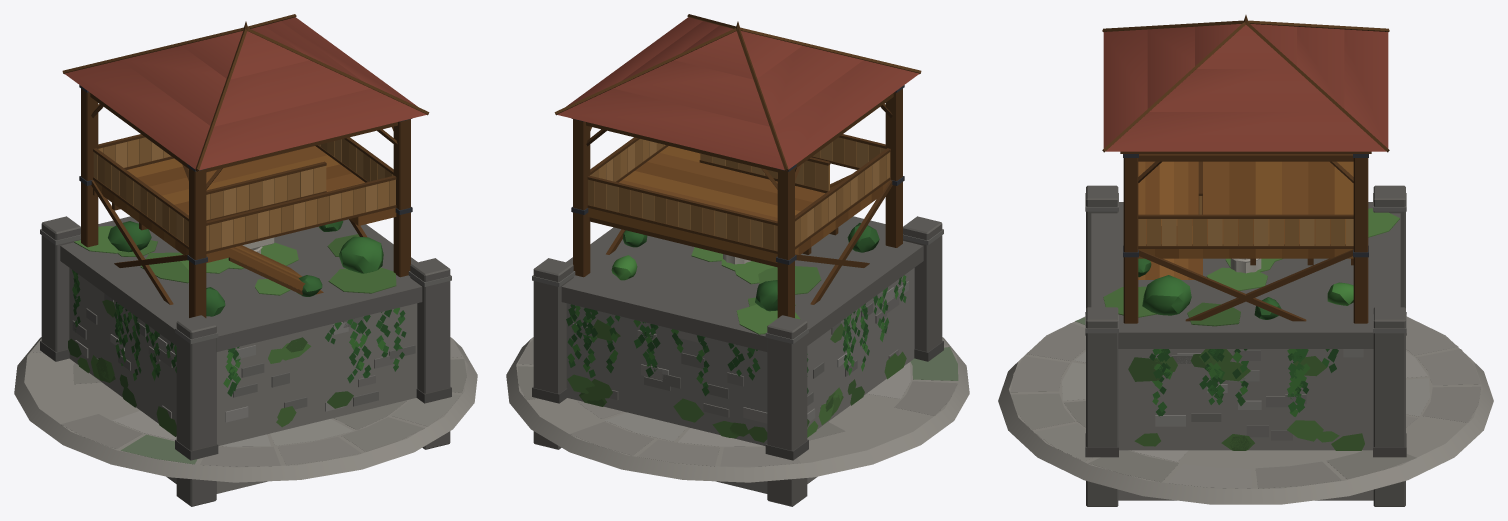
File: decors_secrets_v001.glb
3 renders of one model, left to right at view 1: azimuth 30°, elevation 25°; view 2: azimuth 150°, elevation 25°; view 3: azimuth 270°, elevation 25°, orthographic. The views are drawn at different scales.
Parts seen in each view (by area): view 1: salle_tresor, tour_de_guet, ruine_dalle, salle_tresor_ouverte; view 2: salle_tresor, tour_de_guet, ruine_dalle, salle_tresor_ouverte; view 3: tour_de_guet, salle_tresor, ruine_dalle, salle_tresor_ouverte.
Part boxes in pixels (x1,y1,x2,y2): salle_tresor: (40,216,451,506); tour_de_guet: (62,14,429,317); ruine_dalle: (14,337,477,482); salle_tresor_ouverte: (72,270,158,407); salle_tresor: (532,216,943,506); tour_de_guet: (554,14,921,317); ruine_dalle: (506,337,969,482); salle_tresor_ouverte: (566,289,886,492); tour_de_guet: (1102,15,1389,323); salle_tresor: (1085,185,1406,506); ruine_dalle: (998,316,1493,504); salle_tresor_ouverte: (1149,349,1364,450).
Size of the model in its own units: 13.66 by 13.08 by 13.8.
